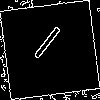I: (25, 25, 64, 69)
